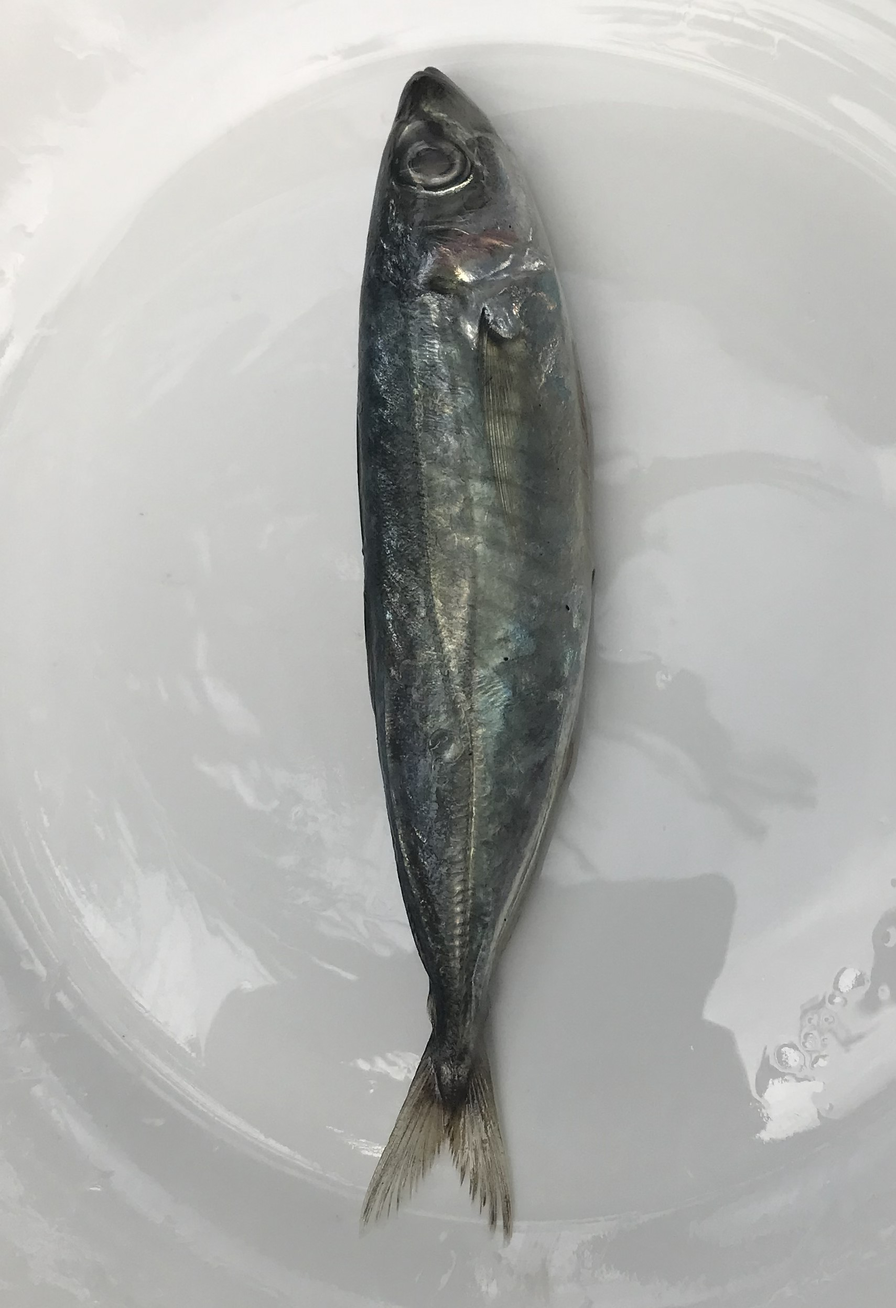galunggong_not_dried: (357, 67, 609, 1239)
